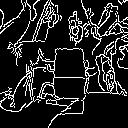cube: (49, 41, 89, 109)
